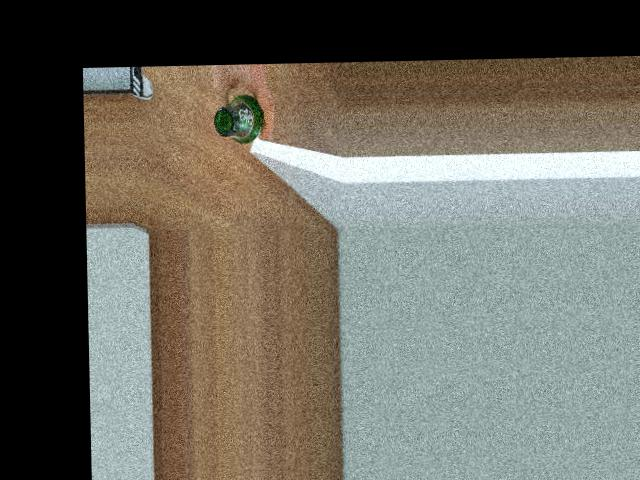beer: (213, 92, 263, 144)
